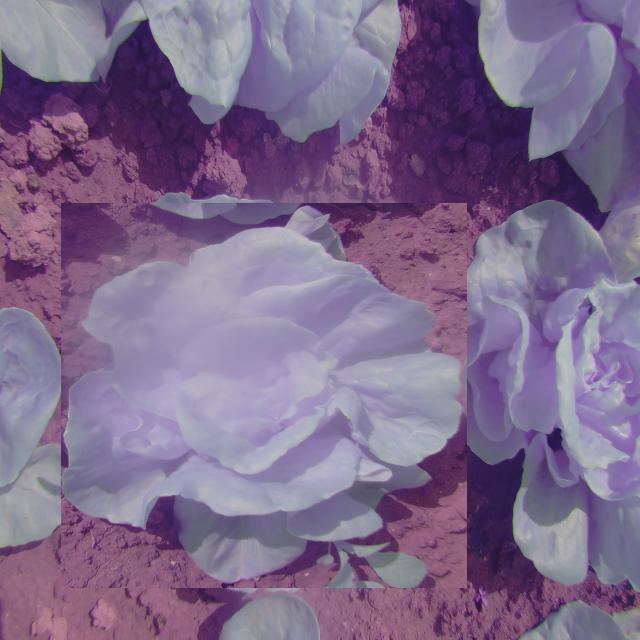vege: (66, 197, 461, 594)
